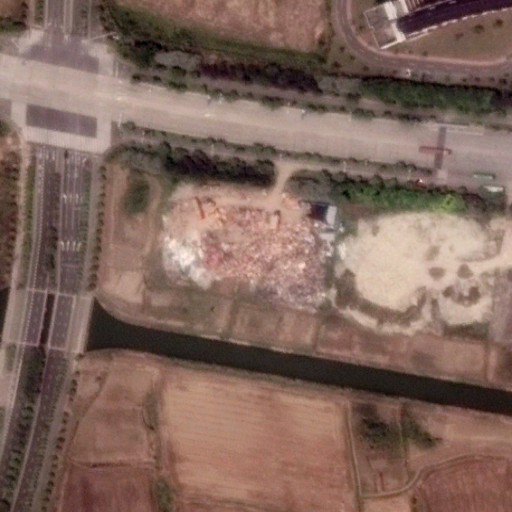msw: (163, 192, 332, 312)
